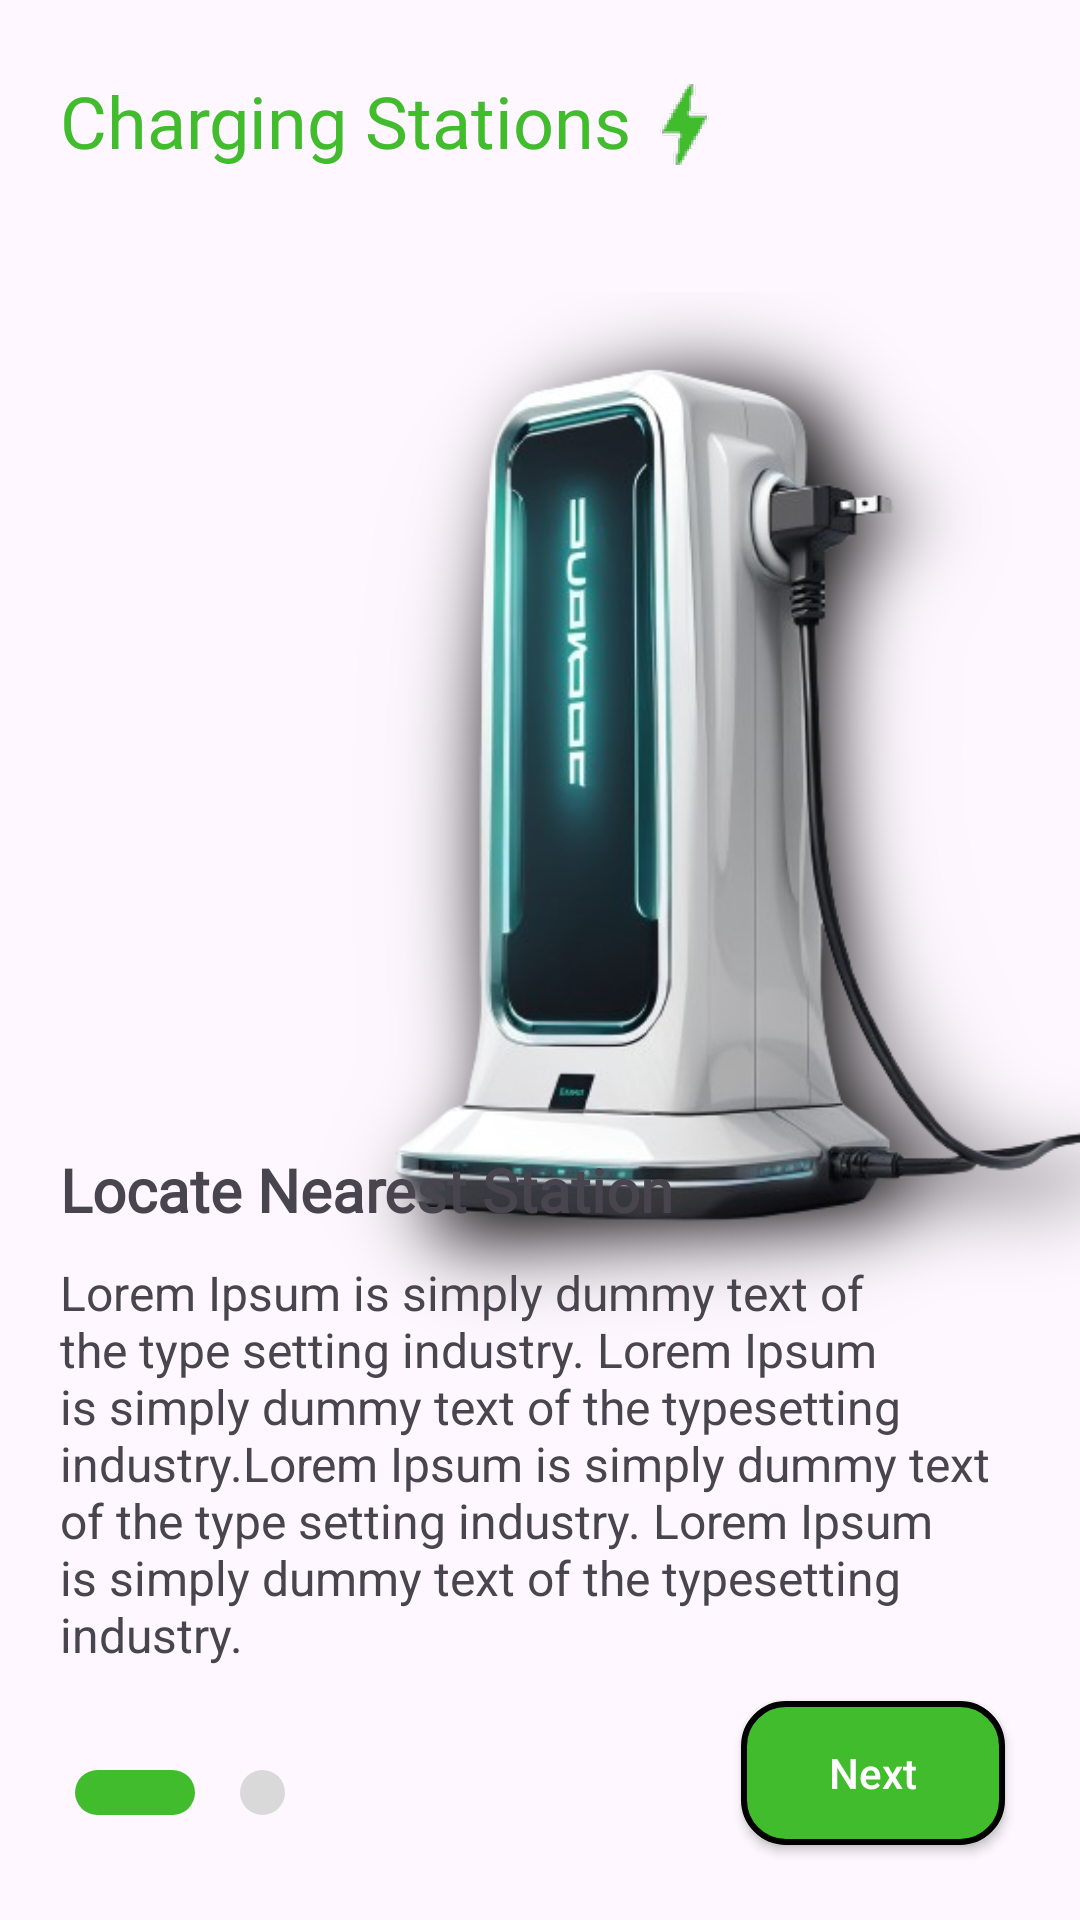

Screen size 1080 x 1920. Icon name, then its box in pixels as (x1, y1, x2, y2):
bolt: (662, 84, 707, 165)
